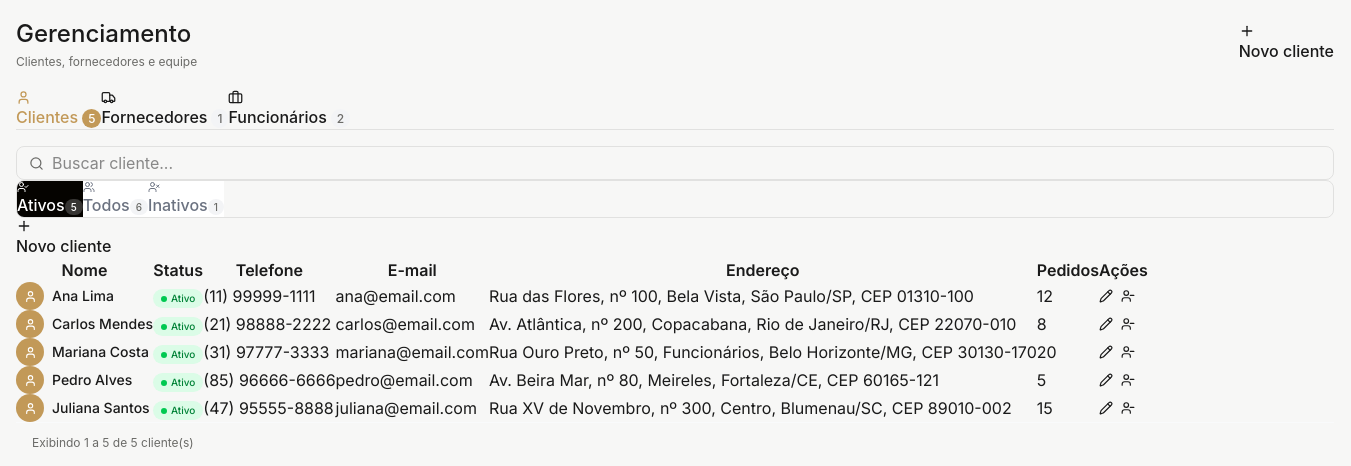
it: People: caracterizacao de filtros e permissoes › exibe a senha do funcionario sempre mascarada, pois o backend nao a retorna
Expected: the heading "Gerenciamento" is shown, top-left (16, 16), bottom-right (197, 52)
Expected: the text "Ana Lima" is shown, top-left (52, 286), bottom-right (114, 306)
Click the button "Funcionários2".
click(289, 110)  # box top-left (228, 90), bottom-right (350, 129)
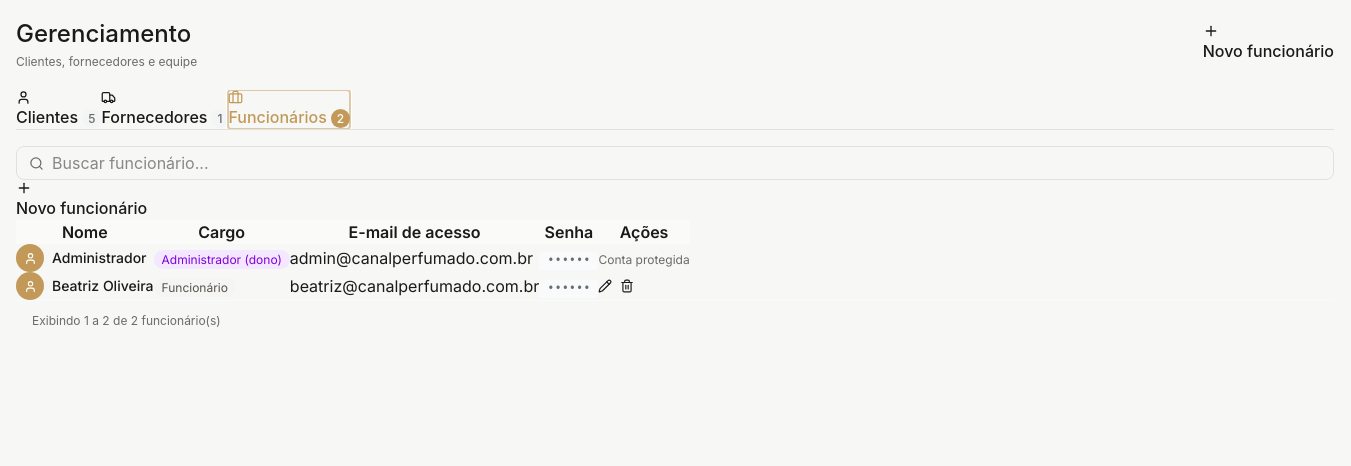
Now the number of elements named "Senha protegida" is 2, box top-left (539, 252), bottom-right (598, 270); top-left (539, 280), bottom-right (598, 298)
Now the text "••••••" is shown 2 times, box top-left (539, 252), bottom-right (598, 270); top-left (539, 280), bottom-right (598, 298)
